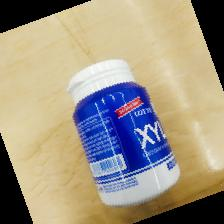Xylitol_blue: (66, 58, 181, 208)
